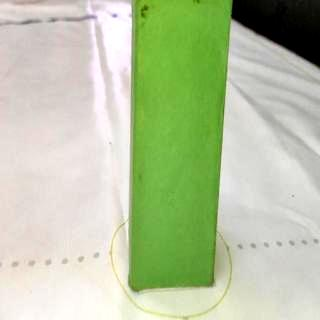greenbox: (130, 0, 232, 290)
